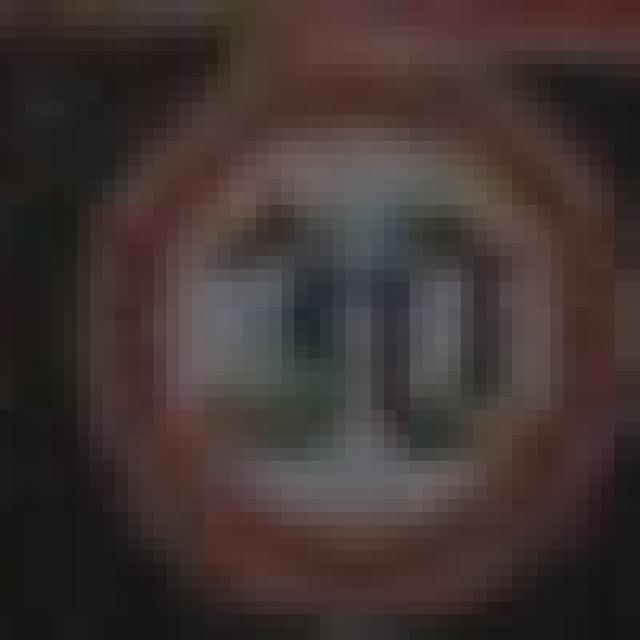SPEED_LIMIT_30: (64, 51, 614, 602)
